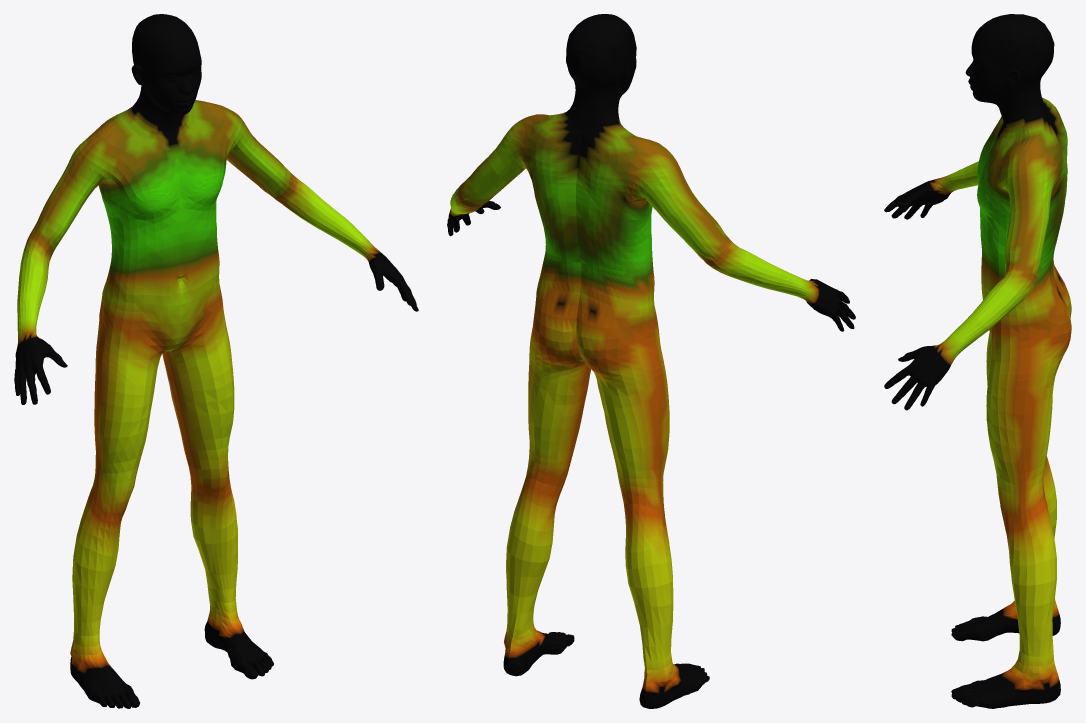
Rendered from male-athletic.glb.
3 renders of one model, left to right at view 1: azimuth 30°, elevation 25°; view 2: azimuth 150°, elevation 25°; view 3: azimuth 270°, elevation 25°, orthographic.
Parts seen in each view (by area): view 1: world; view 2: world; view 3: world.
Part boxes in pixels (x1,y1,x2,y2): world: (14,14,418,708); world: (447,14,855,708); world: (884,14,1071,708).
Bounding box in the file's own units: 1.26 × 1.99 × 0.5196.
